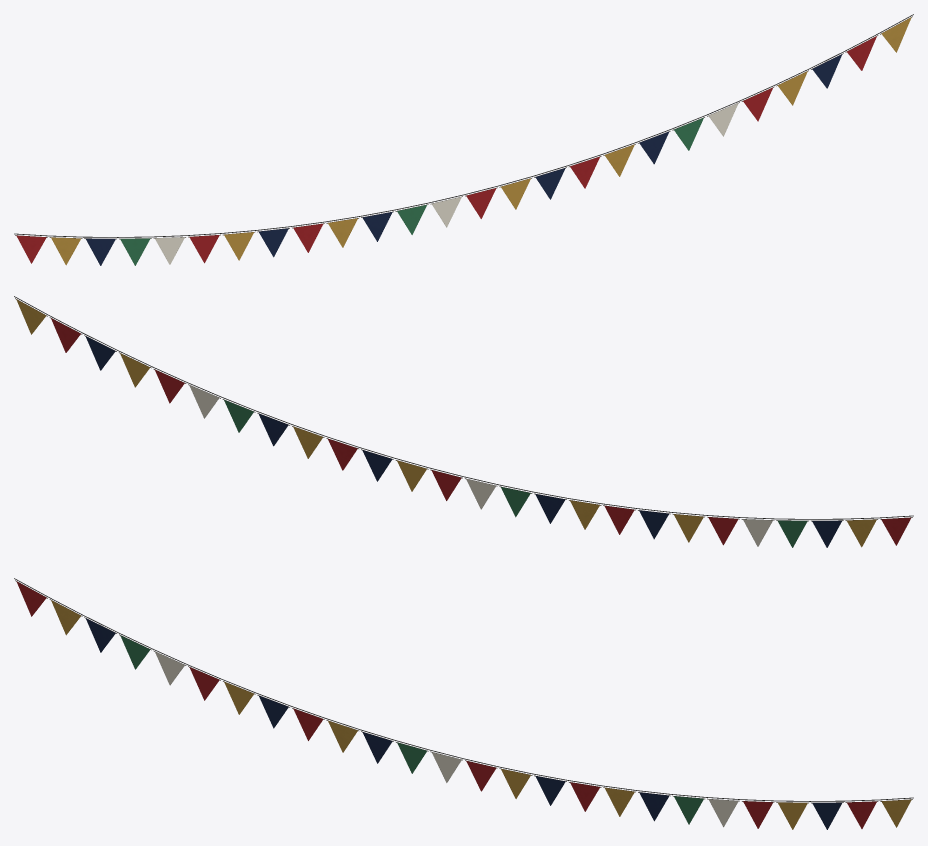
Rendered from SM_QUE_Pennants_8m.fbx.
The picture shows the model from 3 angles, top to bottom: view 1: azimuth 30°, elevation 25°; view 2: azimuth 150°, elevation 25°; view 3: azimuth 330°, elevation 25°; orthographic projection.
Parts seen in each view (by area): view 1: SM_QUE_Pennants_8m; view 2: SM_QUE_Pennants_8m; view 3: SM_QUE_Pennants_8m.
Boxes of the visible parts, x1=… form: SM_QUE_Pennants_8m: x1=14, y1=14, x2=913, y2=265; SM_QUE_Pennants_8m: x1=14, y1=296, x2=913, y2=547; SM_QUE_Pennants_8m: x1=14, y1=578, x2=913, y2=829.
Size of the model in its own units: 8 by 0.8607 by 0.006.
